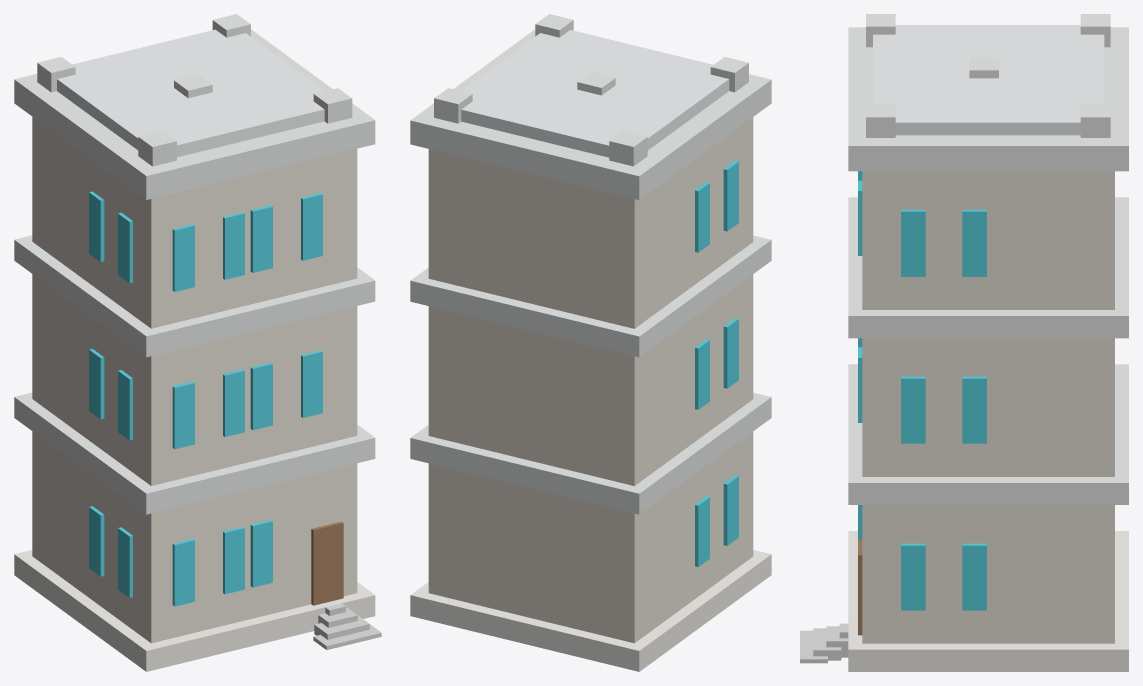
Rendered from House06.fbx.
3 views of the same model, side by side, from view 1: azimuth 30°, elevation 25°; view 2: azimuth 150°, elevation 25°; view 3: azimuth 270°, elevation 25° (orthographic). The views are drawn at different scales.
Parts seen in each view (by area): view 1: House06, House06.001; view 2: House06; view 3: House06, House06.001.
Boxes of the visible parts, x1,y1,x2,y2 form: House06: (14,14,375,671); House06.001: (313,603,381,649); House06: (410,14,771,671); House06: (848,14,1128,671); House06.001: (800,623,848,663).
Bounding box in the file's own units: 789 × 1696 × 925.
